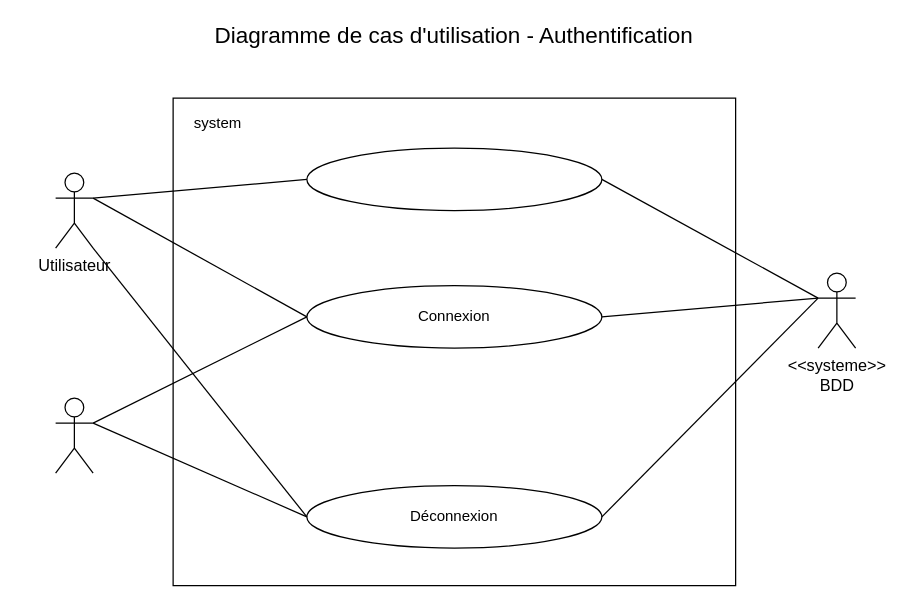
The diagram is 908 pixels wide and 608 high, and some of its shapes have lost their labels. The centre of each missing label's shape, as x and y in pixels:
"Administrateur" goes at point 73,435.
"Inscription" goes at point 454,179.
